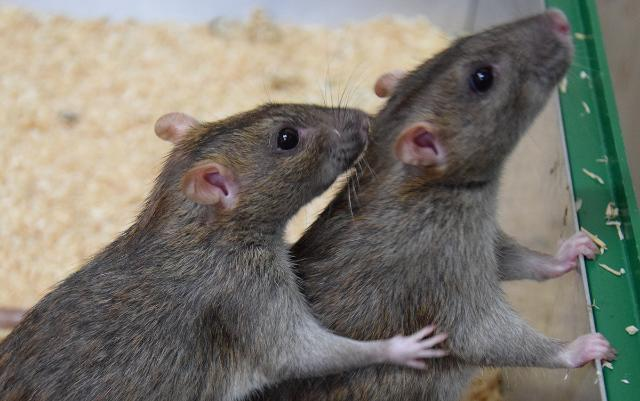rat: (7, 81, 397, 401), (333, 1, 622, 379)
